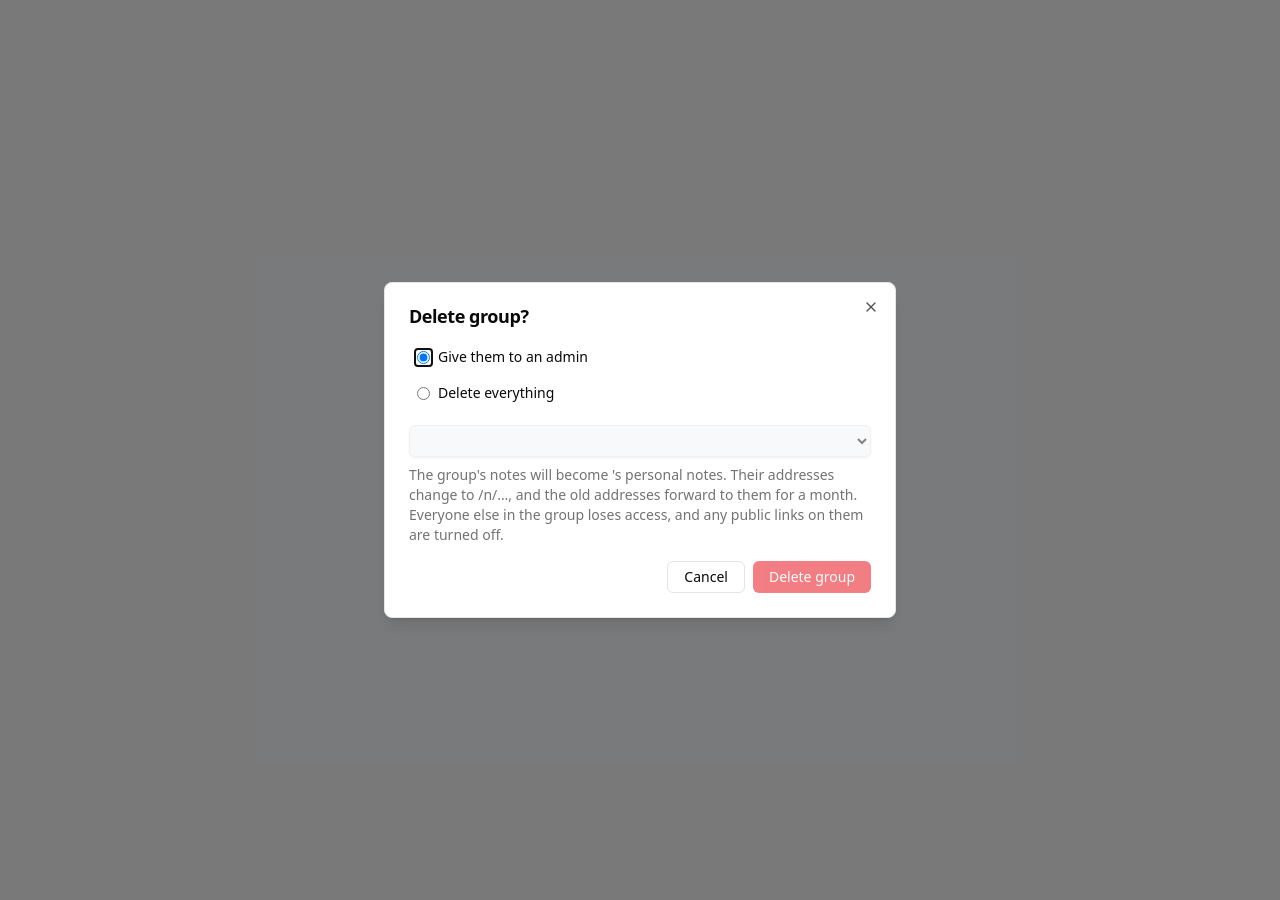
Test: DeleteGroupDialog（#175 PR4，spec §8.6） › 勾了再切回轉移、再切回全刪：勾選已清掉、確認鈕又是 disabled
This screenshot has width=1280, height=900.
Expected: the dropdown named "Admin who gets the notes" is shown, x1=409 y1=425 x2=871 y2=457
Click the radio button labelled "Delete everything".
click(424, 393)  # box x1=417 y1=386 x2=430 y2=400
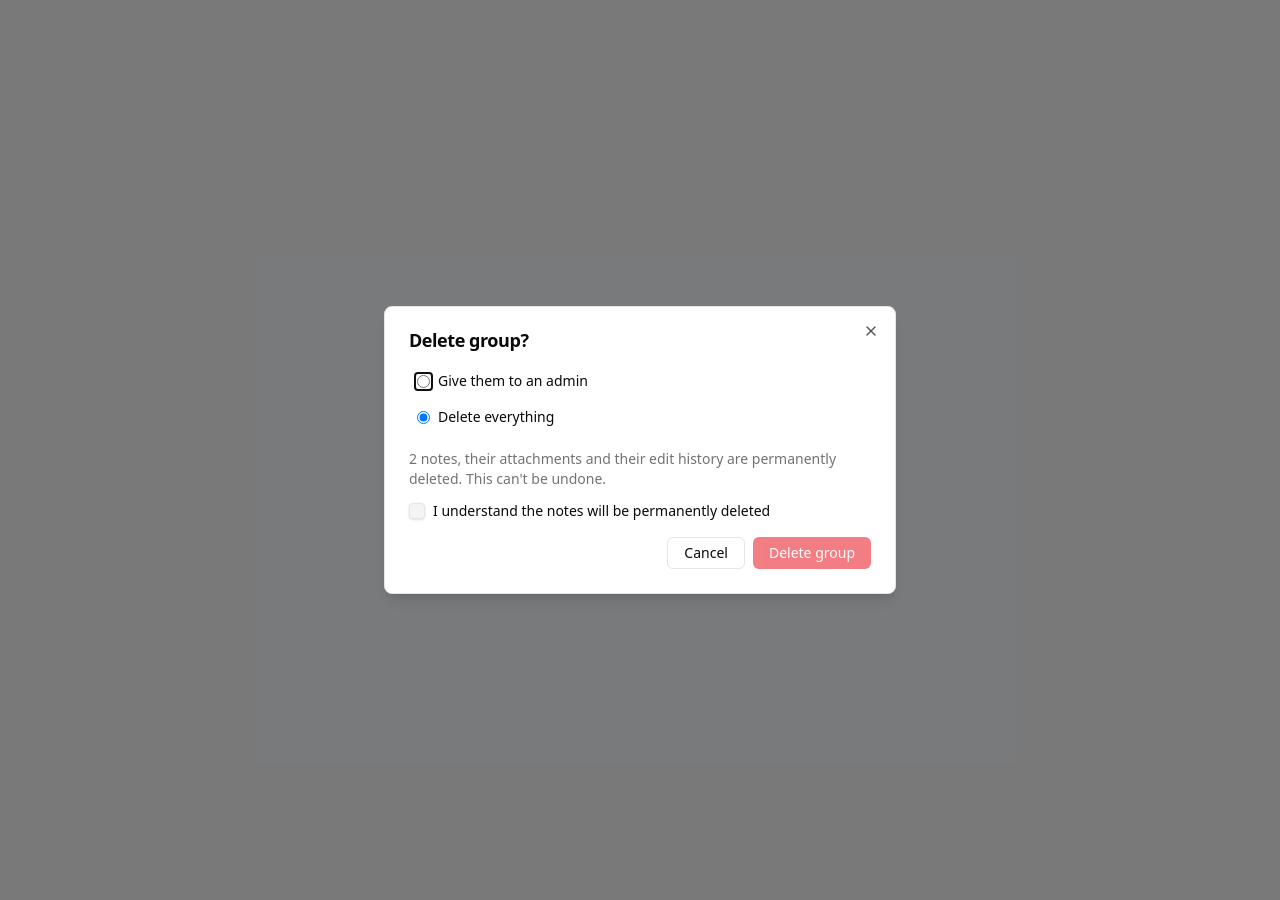
Click the checkbox named "I understand the notes will be permanently deleted".
click(417, 511)  # box x1=409 y1=503 x2=425 y2=519
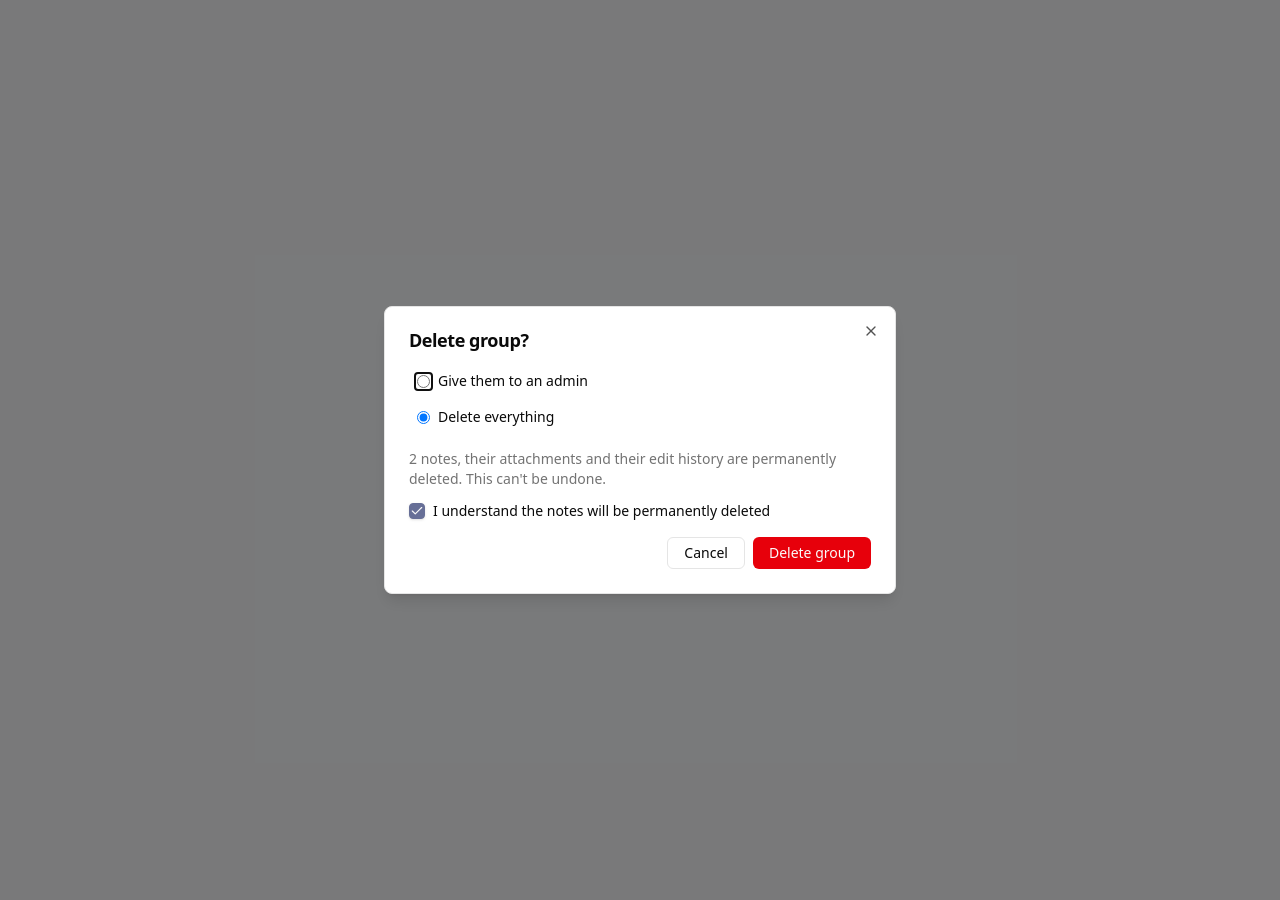
Result: the button "Delete group" is enabled at x1=753 y1=537 x2=871 y2=569
Click the radio button labelled "Give them to an admin".
click(424, 381)  # box x1=417 y1=374 x2=430 y2=388
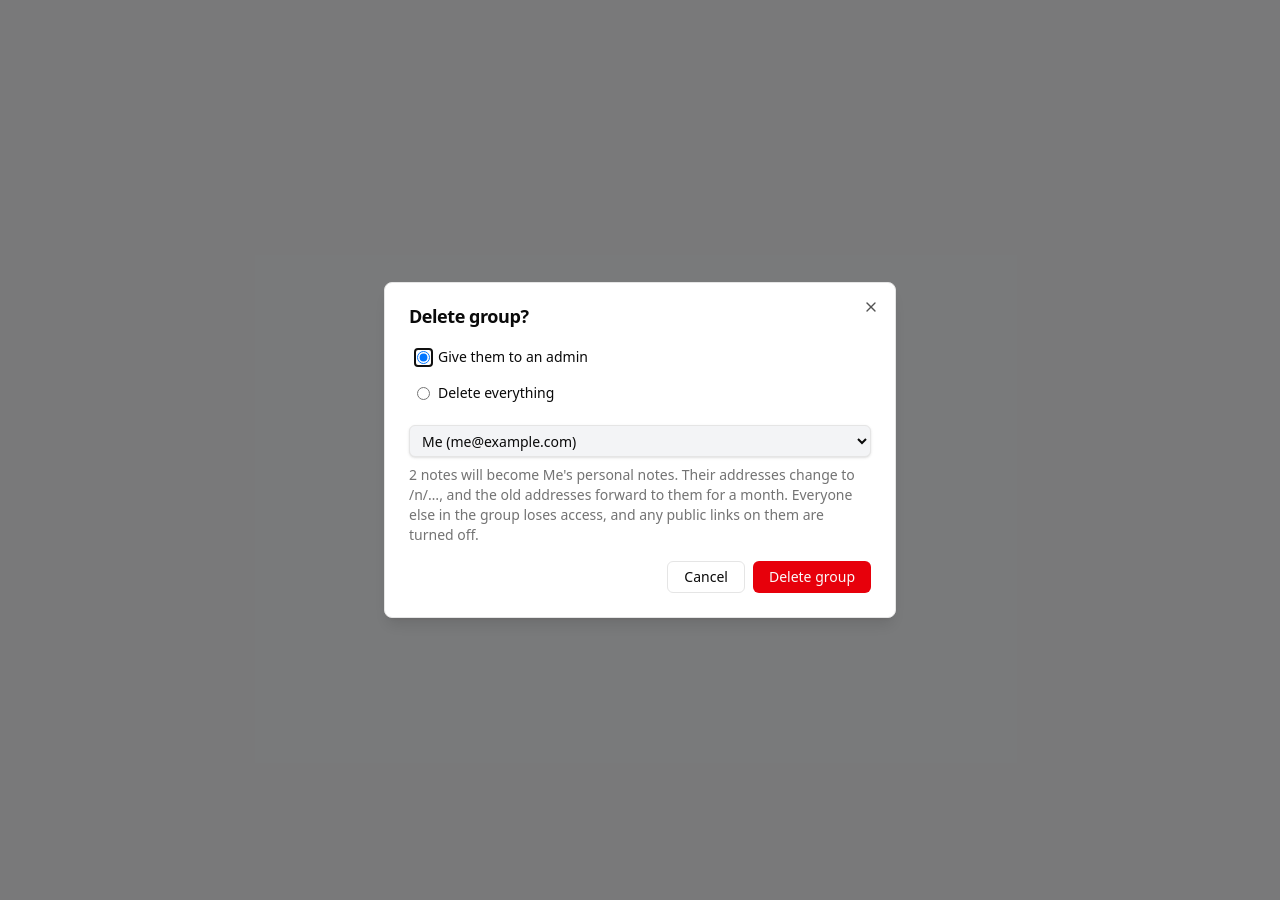
Click the radio button labelled "Delete everything".
click(424, 393)  # box x1=417 y1=386 x2=430 y2=400
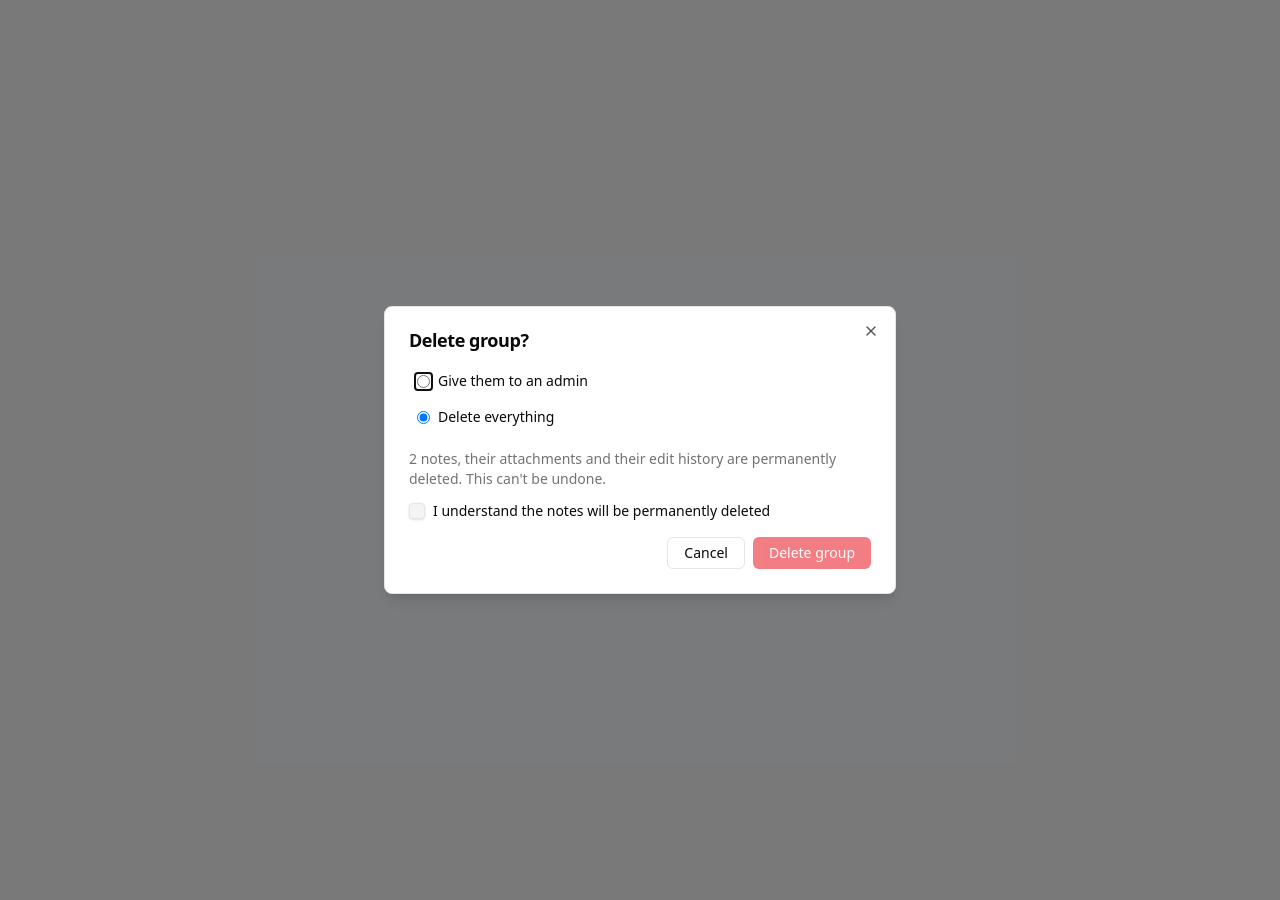
Result: the checkbox named "I understand the notes will be permanently deleted" is not checked at x1=409 y1=503 x2=425 y2=519
Result: the button "Delete group" is disabled at x1=753 y1=537 x2=871 y2=569
